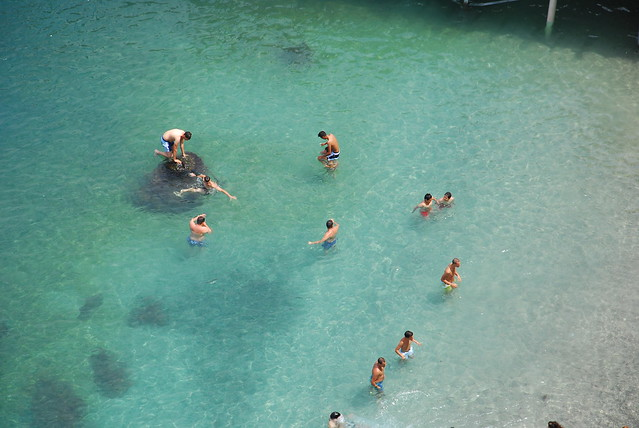people: (172, 171, 238, 203), (151, 125, 193, 165), (305, 216, 341, 251), (393, 329, 424, 364), (313, 130, 341, 167), (439, 256, 463, 296), (324, 410, 375, 428), (187, 211, 212, 247), (368, 356, 389, 395), (409, 190, 437, 218), (438, 189, 456, 210)
